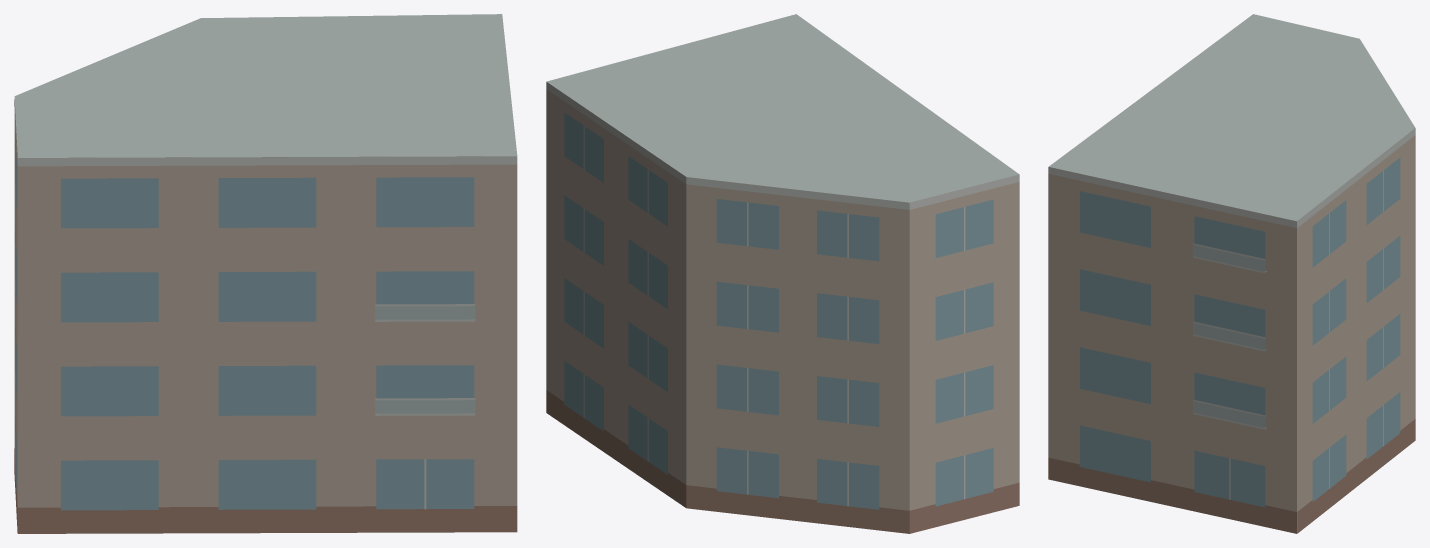
The model's file is survey-upis-32716798.glb.
3 renders of one model, left to right at view 1: azimuth 30°, elevation 25°; view 2: azimuth 150°, elevation 25°; view 3: azimuth 270°, elevation 25°, orthographic. The views are drawn at different scales.
Parts seen in each view (by area): view 1: survey-upis-32716798.tmp; view 2: survey-upis-32716798.tmp; view 3: survey-upis-32716798.tmp.
Boxes of the visible parts, bbox=[...] form: survey-upis-32716798.tmp: bbox=[14, 14, 517, 533]; survey-upis-32716798.tmp: bbox=[546, 14, 1019, 533]; survey-upis-32716798.tmp: bbox=[1048, 14, 1415, 533].
Size of the model in its own units: 15.63 by 10.98 by 11.7.
